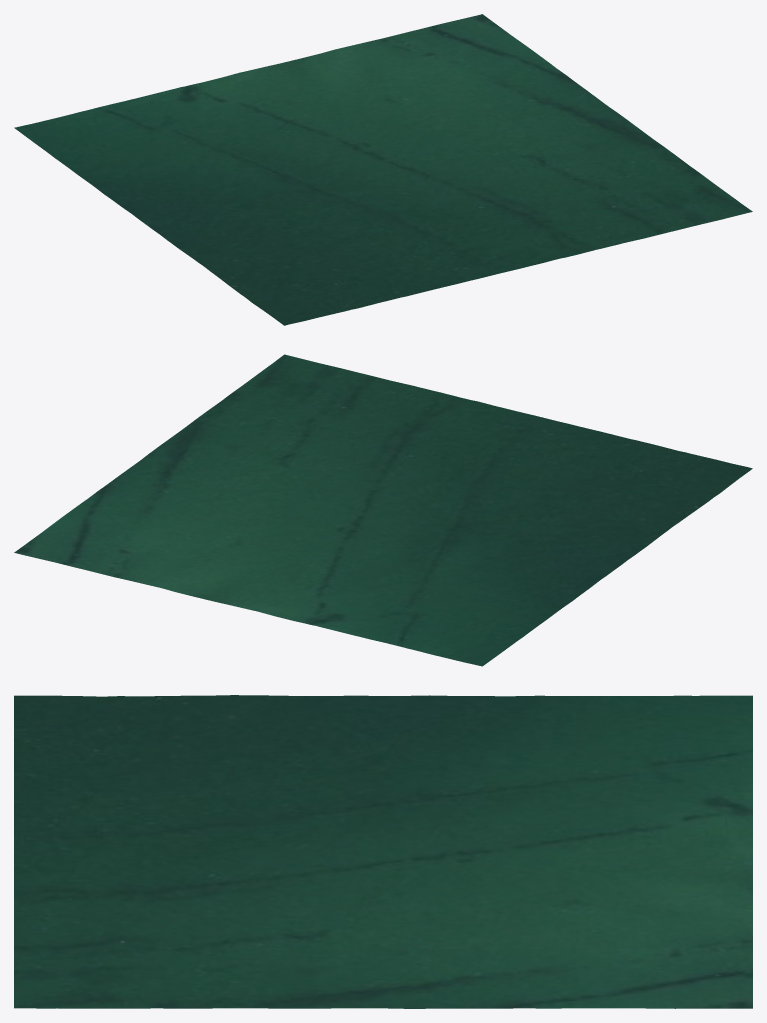
The picture shows the model from 3 angles, top to bottom: view 1: azimuth 30°, elevation 25°; view 2: azimuth 150°, elevation 25°; view 3: azimuth 270°, elevation 25°; orthographic projection. The views are drawn at different scales.
Size of the model in its own units: 209 by 0.5759 by 209.
Materials: 2 (2 with a texture image).
